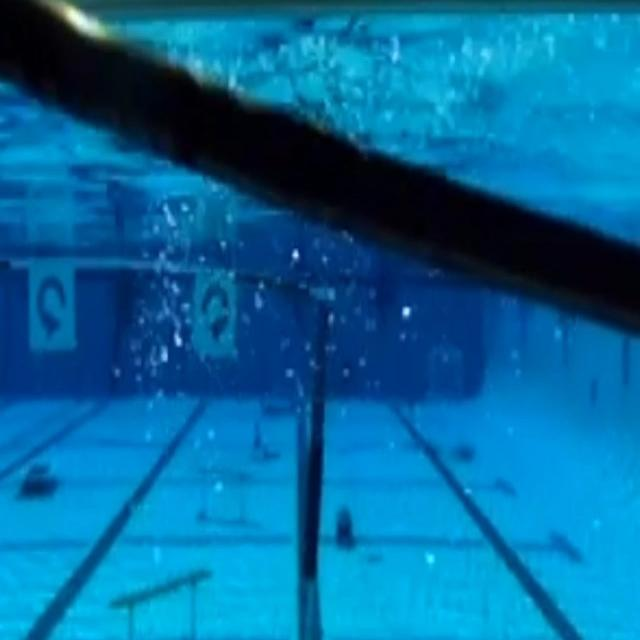Gate: (0, 251, 336, 584)
